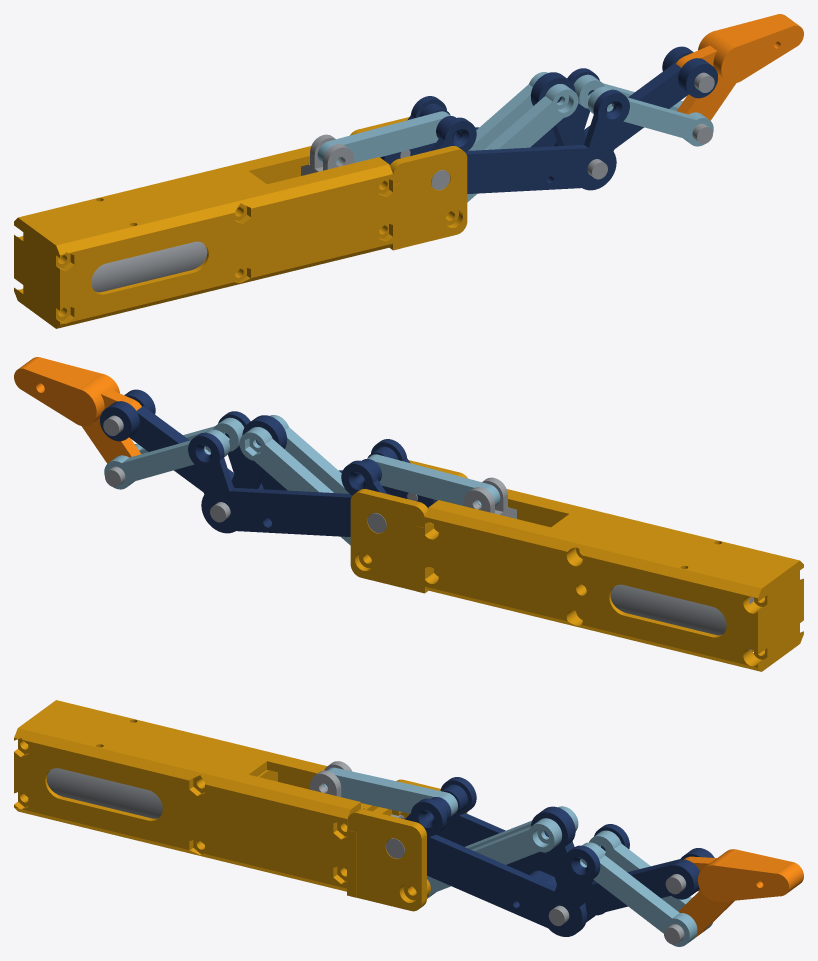
Rendered from finger-v4.glb.
3 renders of one model, top to bottom at view 1: azimuth 30°, elevation 25°; view 2: azimuth 150°, elevation 25°; view 3: azimuth 330°, elevation 25°, orthographic.
Parts seen in each view (by area): view 1: Housing_half_-Y__nut_pockets_, Proximal_half_-Y, Housing_half_+Y__bolt_heads,_grub_access_, Finger_base__actuator_v4_, Distal_half_-Y, Middle_phalanx_half_-Y, JYCRS390H_motor__reference,_front_end_as_re-measured_, Link, Coupler_bar_Q_-Y, Coupler_bar_R_-Y, Proximal_half_+Y, Coupler_bar_Q_+Y (+4 smaller); view 2: Housing_half_+Y__bolt_heads,_grub_access_, Proximal_half_+Y, Housing_half_-Y__nut_pockets_, Finger_base__actuator_v4_, Distal_half_+Y, Middle_phalanx_half_+Y, JYCRS390H_motor__reference,_front_end_as_re-measured_, Link, Coupler_bar_Q_+Y, Coupler_bar_R_+Y, Proximal_half_-Y, Coupler_bar_Q_-Y (+4 smaller); view 3: Housing_half_-Y__nut_pockets_, Proximal_half_-Y, Finger_base__actuator_v4_, Housing_half_+Y__bolt_heads,_grub_access_, Distal_half_-Y, Middle_phalanx_half_-Y, Proximal_half_+Y, Coupler_bar_R_-Y, JYCRS390H_motor__reference,_front_end_as_re-measured_, Link, Coupler_bar_Q_-Y, Coupler_bar_R_+Y (+4 smaller).
Boxes of the visible parts, x1,y1,x2,y2 form: Housing_half_-Y__nut_pockets_: (37, 157, 392, 328); Proximal_half_-Y: (426, 89, 629, 193); Housing_half_+Y__bolt_heads,_grub_access_: (14, 146, 311, 314); Finger_base__actuator_v4_: (350, 117, 467, 250); Distal_half_-Y: (680, 19, 803, 120); Middle_phalanx_half_-Y: (534, 58, 717, 149); JYCRS390H_motor__reference,_front_end_as_re-measured_: (91, 241, 207, 292); Link: (317, 111, 450, 163); Coupler_bar_Q_-Y: (467, 84, 578, 202); Coupler_bar_R_-Y: (588, 86, 713, 146); Proximal_half_+Y: (380, 68, 599, 165); Coupler_bar_Q_+Y: (468, 72, 547, 150); Housing_half_+Y__bolt_heads,_grub_access_: (425, 500, 780, 671); Proximal_half_+Y: (188, 432, 391, 536); Housing_half_-Y__nut_pockets_: (506, 489, 803, 657); Finger_base__actuator_v4_: (350, 460, 467, 593); Distal_half_+Y: (14, 362, 137, 463); Middle_phalanx_half_+Y: (100, 401, 283, 492); JYCRS390H_motor__reference,_front_end_as_re-measured_: (610, 584, 753, 650); Link: (367, 454, 500, 506); Coupler_bar_Q_+Y: (239, 427, 350, 545); Coupler_bar_R_+Y: (104, 429, 229, 489); Proximal_half_-Y: (218, 411, 437, 508); Coupler_bar_Q_-Y: (270, 415, 349, 493); Housing_half_-Y__nut_pockets_: (14, 714, 369, 891); Proximal_half_-Y: (401, 797, 600, 936); Finger_base__actuator_v4_: (347, 779, 467, 911); Housing_half_+Y__bolt_heads,_grub_access_: (37, 700, 378, 811); Distal_half_-Y: (678, 857, 796, 938); Middle_phalanx_half_-Y: (531, 809, 699, 922); Proximal_half_+Y: (436, 777, 629, 915); Coupler_bar_R_-Y: (580, 842, 697, 946); JYCRS390H_motor__reference,_front_end_as_re-measured_: (47, 768, 162, 818); Link: (323, 767, 457, 816); Coupler_bar_Q_-Y: (427, 818, 562, 898); Coupler_bar_R_+Y: (589, 830, 712, 931).
Size of the model in its own units: 0.2859 by 0.0408 by 0.03.
